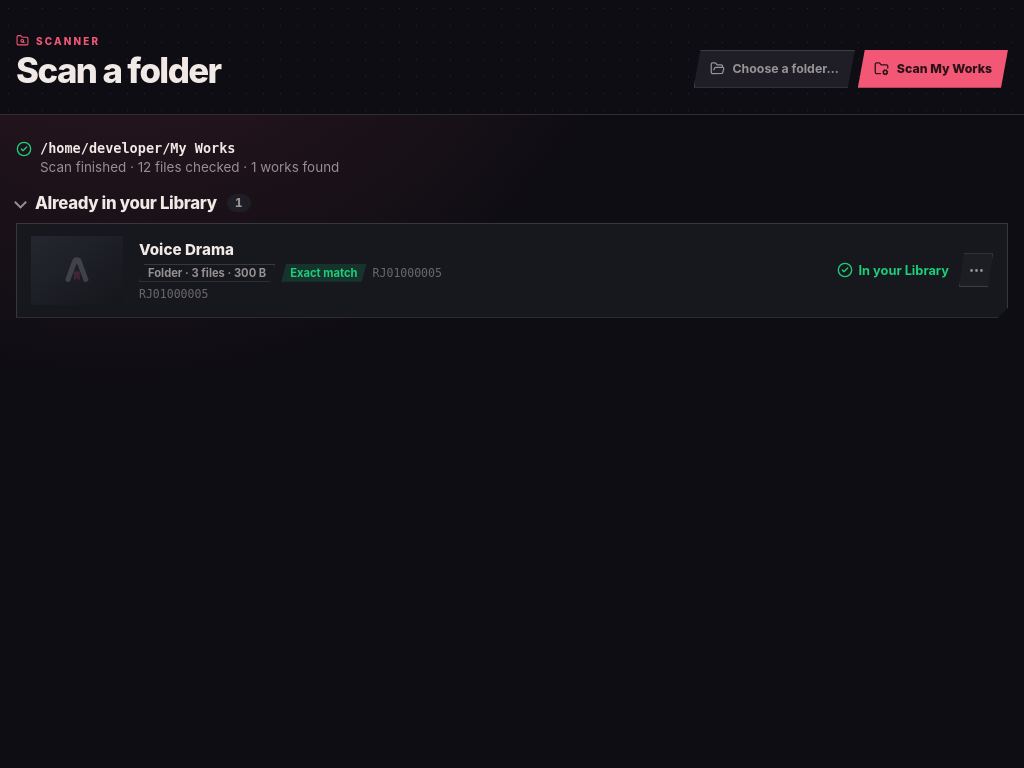
Scenario: ScannerPage › offers editing, showing and removing a work already in the Library from its menu
This screenshot has width=1024, height=768.
What coordinates should you click on to do the following:
click the button named "More for Voice Drama"
I would click on:
 (976, 270)
Its box is [959, 253, 993, 287].
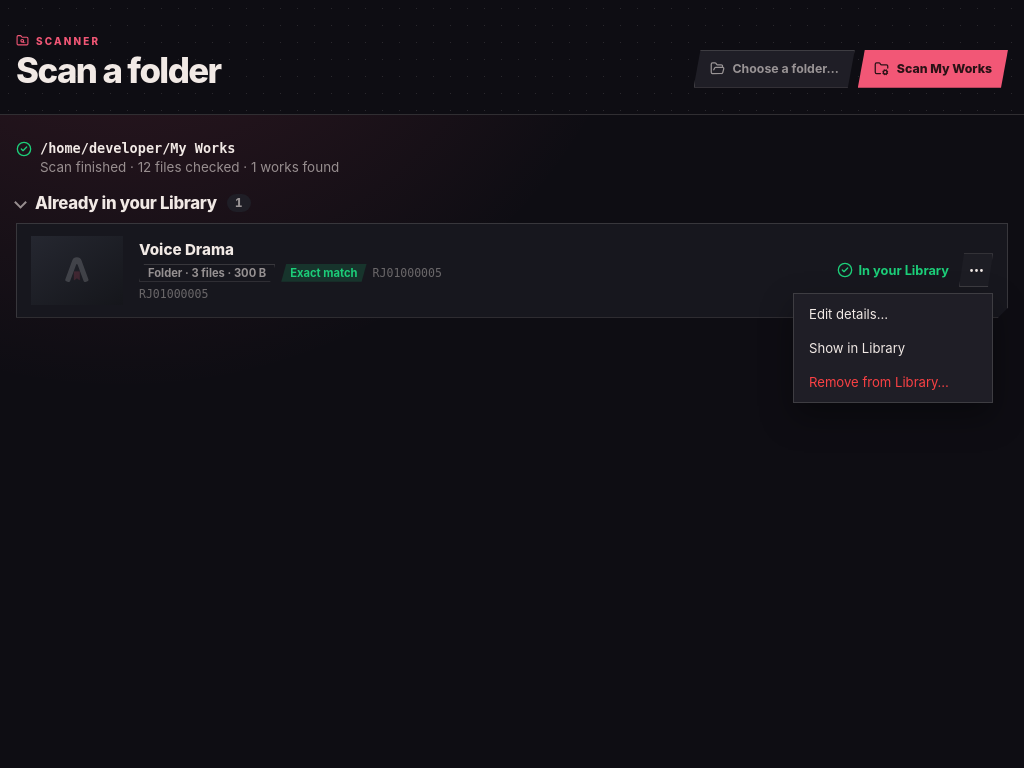
Check: the menu items read "Edit details…", "Show in Library", "Remove from Library…", in this order
What coordinates should you click on to do the following:
click the menu item "Show in Library"
I would click on:
 (893, 348)
Its box is [797, 331, 989, 365].
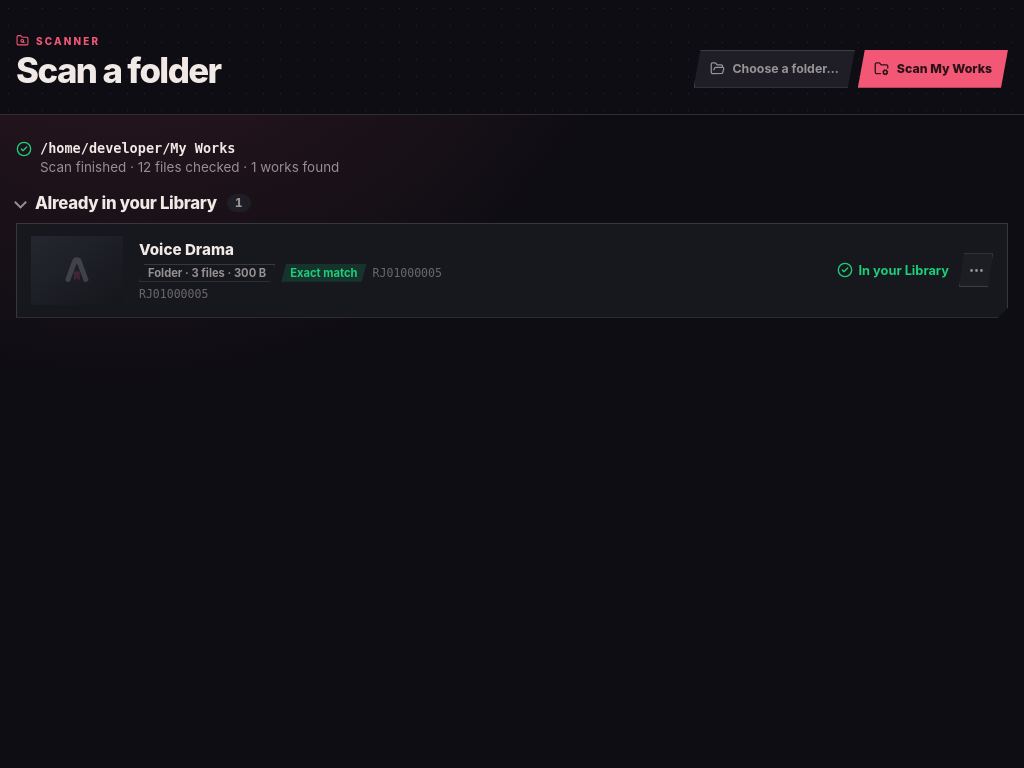
What coordinates should you click on to do the following:
click the button named "More for Voice Drama"
I would click on:
 (976, 270)
Its box is [959, 253, 993, 287].
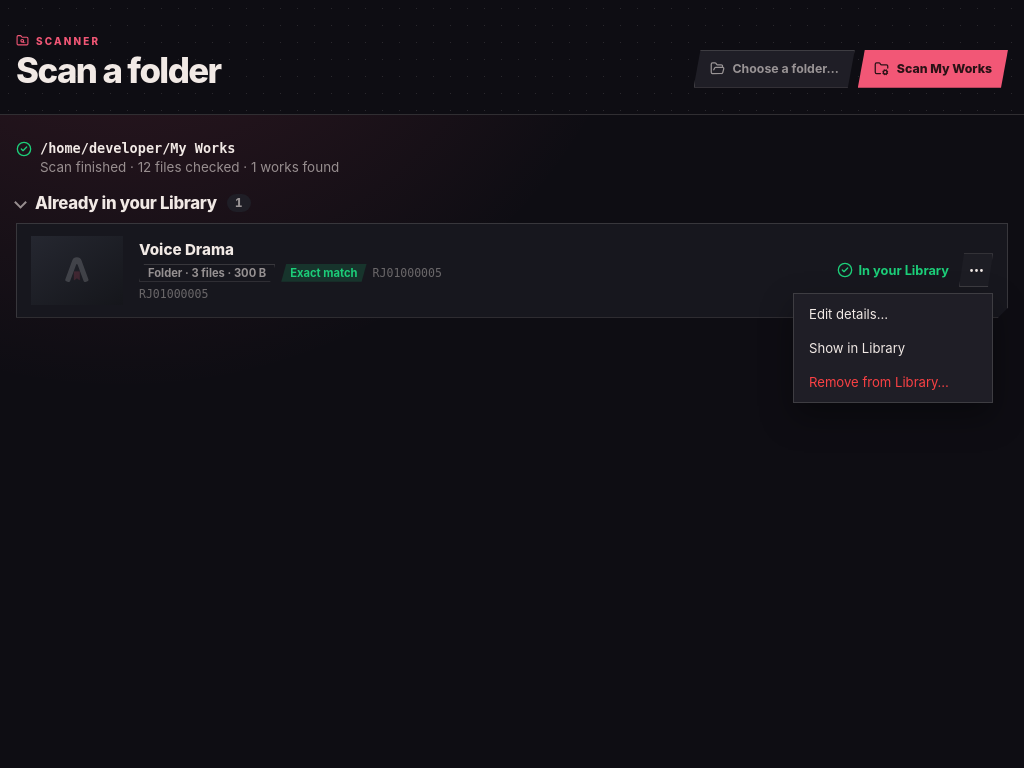
What coordinates should you click on to do the following:
click the menu item "Edit details…"
I would click on:
 (893, 314)
Its box is [797, 297, 989, 331].
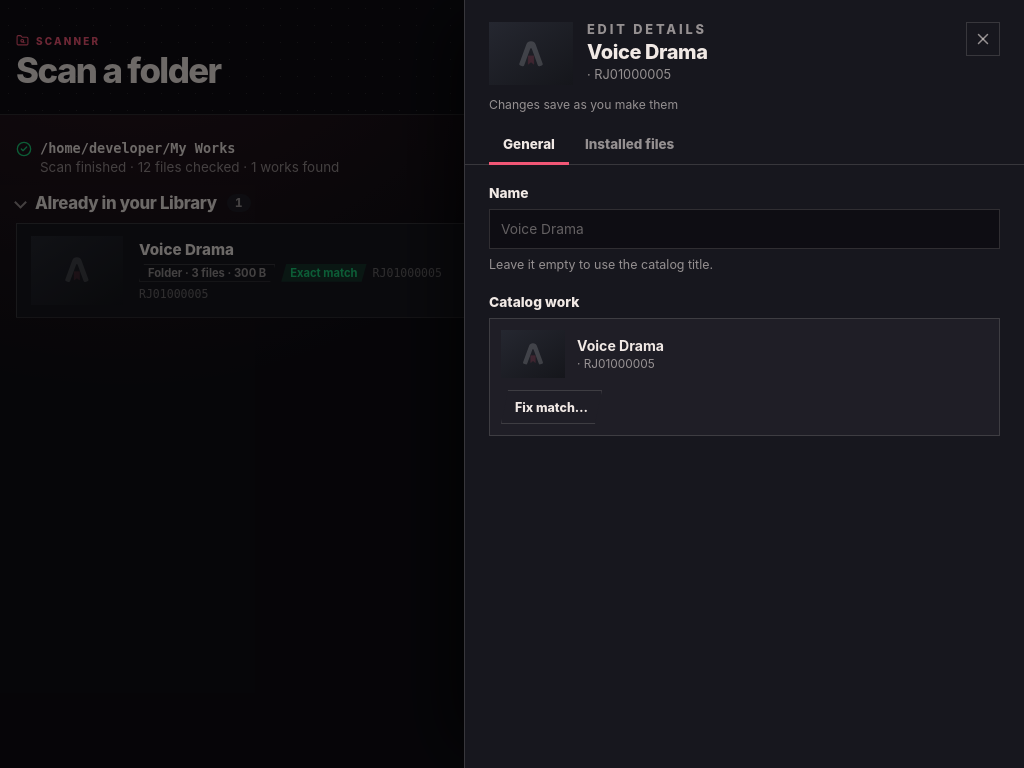
Check: the dialog "Voice Drama" is shown, box [464, 0, 1023, 767]
Check: the tab "General" is shown, box [489, 126, 569, 165]
